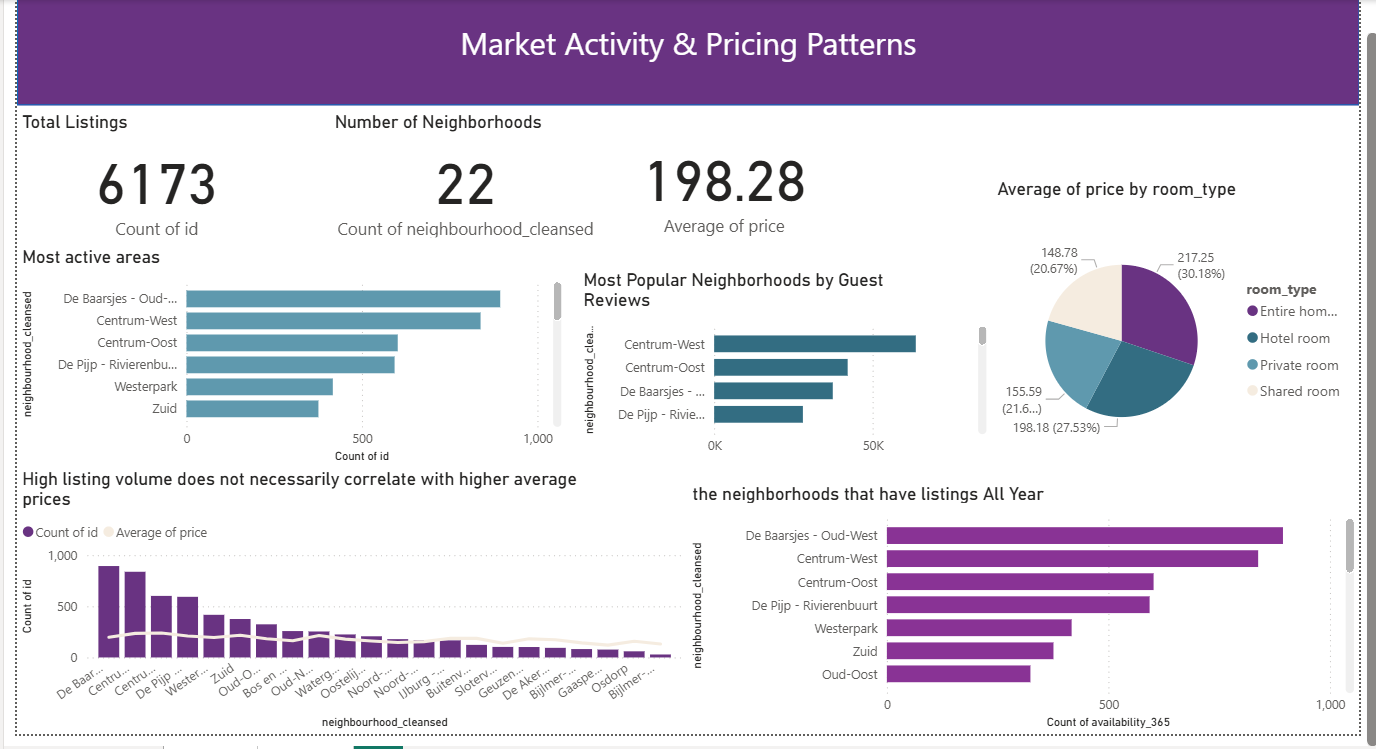

Layout of this report page (visuals, bound fields, positions):
{"tool":"powerbi","page":{"name":"Page 1","canvas":[1280,720],"ordinal":0},"visuals":[{"type":"card","title":"Total Listings","fields":{"Values":["CountNonNull(cleaned_airbnb_data.id)"]},"box":[0,126.4,267,125.2],"z":0},{"type":"card","title":"Number of Neighborhoods","fields":{"Values":["Count(cleaned_airbnb_data.neighbourhood_cleansed)"]},"box":[298,126.4,259.9,125.2],"z":1000},{"type":"card","fields":{"Values":["Avg(cleaned_airbnb_data.price)"]},"box":[572.3,125,204.9,142.4],"z":2000},{"type":"barChart","title":"Most active areas","fields":{"Category":["cleaned_airbnb_data.neighbourhood_cleansed"],"Y":["CountNonNull(cleaned_airbnb_data.id)"]},"box":[0,255.1,524.5,211],"z":4000},{"type":"lineClusteredColumnComboChart","title":"High listing volume does not necessarily correlate with higher average prices","fields":{"Category":["cleaned_airbnb_data.neighbourhood_cleansed"],"Y":["CountNonNull(cleaned_airbnb_data.id)"],"Y2":["Avg(cleaned_airbnb_data.price)"]},"box":[0,466.1,638.9,253.9],"z":5000},{"type":"pieChart","fields":{"Category":["cleaned_airbnb_data.room_type"],"Y":["Avg(cleaned_airbnb_data.price)"]},"box":[929.8,189.5,350.5,290.9],"z":6000},{"type":"barChart","title":"the neighborhoods that have listings All Year","fields":{"Category":["cleaned_airbnb_data.neighbourhood_cleansed"],"Y":["CountNonNull(cleaned_airbnb_data.availability_365)"]},"box":[638.9,480.4,641.3,239.6],"z":7000},{"type":"shape","title":"Market Activity & Pricing Patterns","box":[0,0,1280.3,120.5],"z":8000},{"type":"barChart","title":"Most Popular Neighborhoods by Guest Reviews","fields":{"Category":["cleaned_airbnb_data.neighbourhood_cleansed"],"Y":["Sum(cleaned_airbnb_data.number_of_reviews)"]},"box":[534.9,276.7,394.5,186.7],"z":9000}]}

Visuals, with their boxes on the page's 1280x720 design canvas (x1, y1, x2, y2). These are canvas units, not pixel positions in the 1376x749 screenshot, which may show the page scaled, cropped or inside an application window:
"Total Listings" card: region(0, 126, 267, 252)
"Number of Neighborhoods" card: region(298, 126, 558, 252)
card - Avg(cleaned_airbnb_data.price): region(572, 125, 777, 267)
"Most active areas" barChart: region(0, 255, 524, 466)
"High listing volume does not necessarily correlate with higher average prices" lineClusteredColumnComboChart: region(0, 466, 639, 720)
pieChart - cleaned_airbnb_data.room_type x Avg(cleaned_airbnb_data.price): region(930, 190, 1280, 480)
"the neighborhoods that have listings All Year" barChart: region(639, 480, 1280, 720)
"Market Activity & Pricing Patterns" shape: region(0, 0, 1280, 120)
"Most Popular Neighborhoods by Guest Reviews" barChart: region(535, 277, 929, 463)
